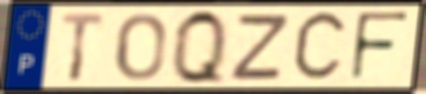C: (289, 7, 351, 87)
F: (348, 10, 412, 84)
O: (114, 11, 168, 83)
Q: (170, 6, 228, 88)
T: (59, 11, 107, 83)
Z: (226, 12, 293, 82)
